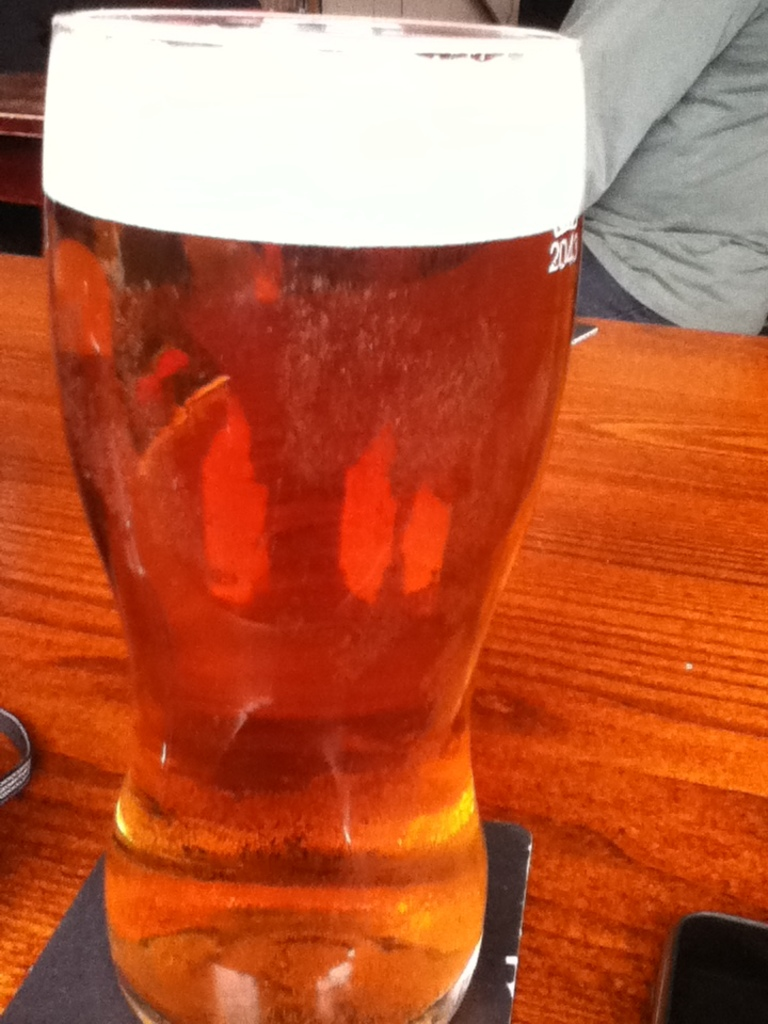Beer: (39, 7, 585, 1022)
